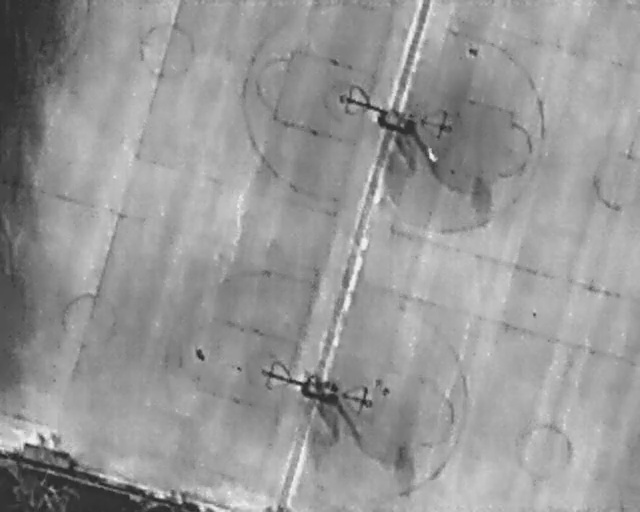Person: (426, 143, 439, 162), (193, 346, 205, 362), (467, 47, 480, 58)
